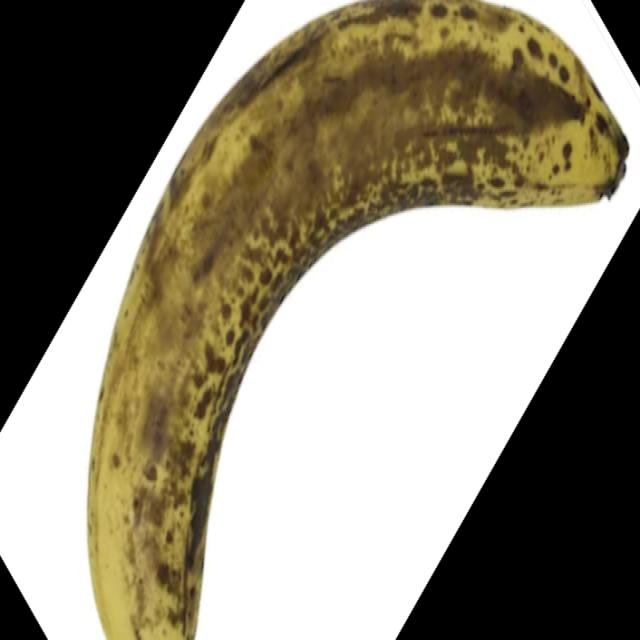overripe: (84, 5, 629, 640)
